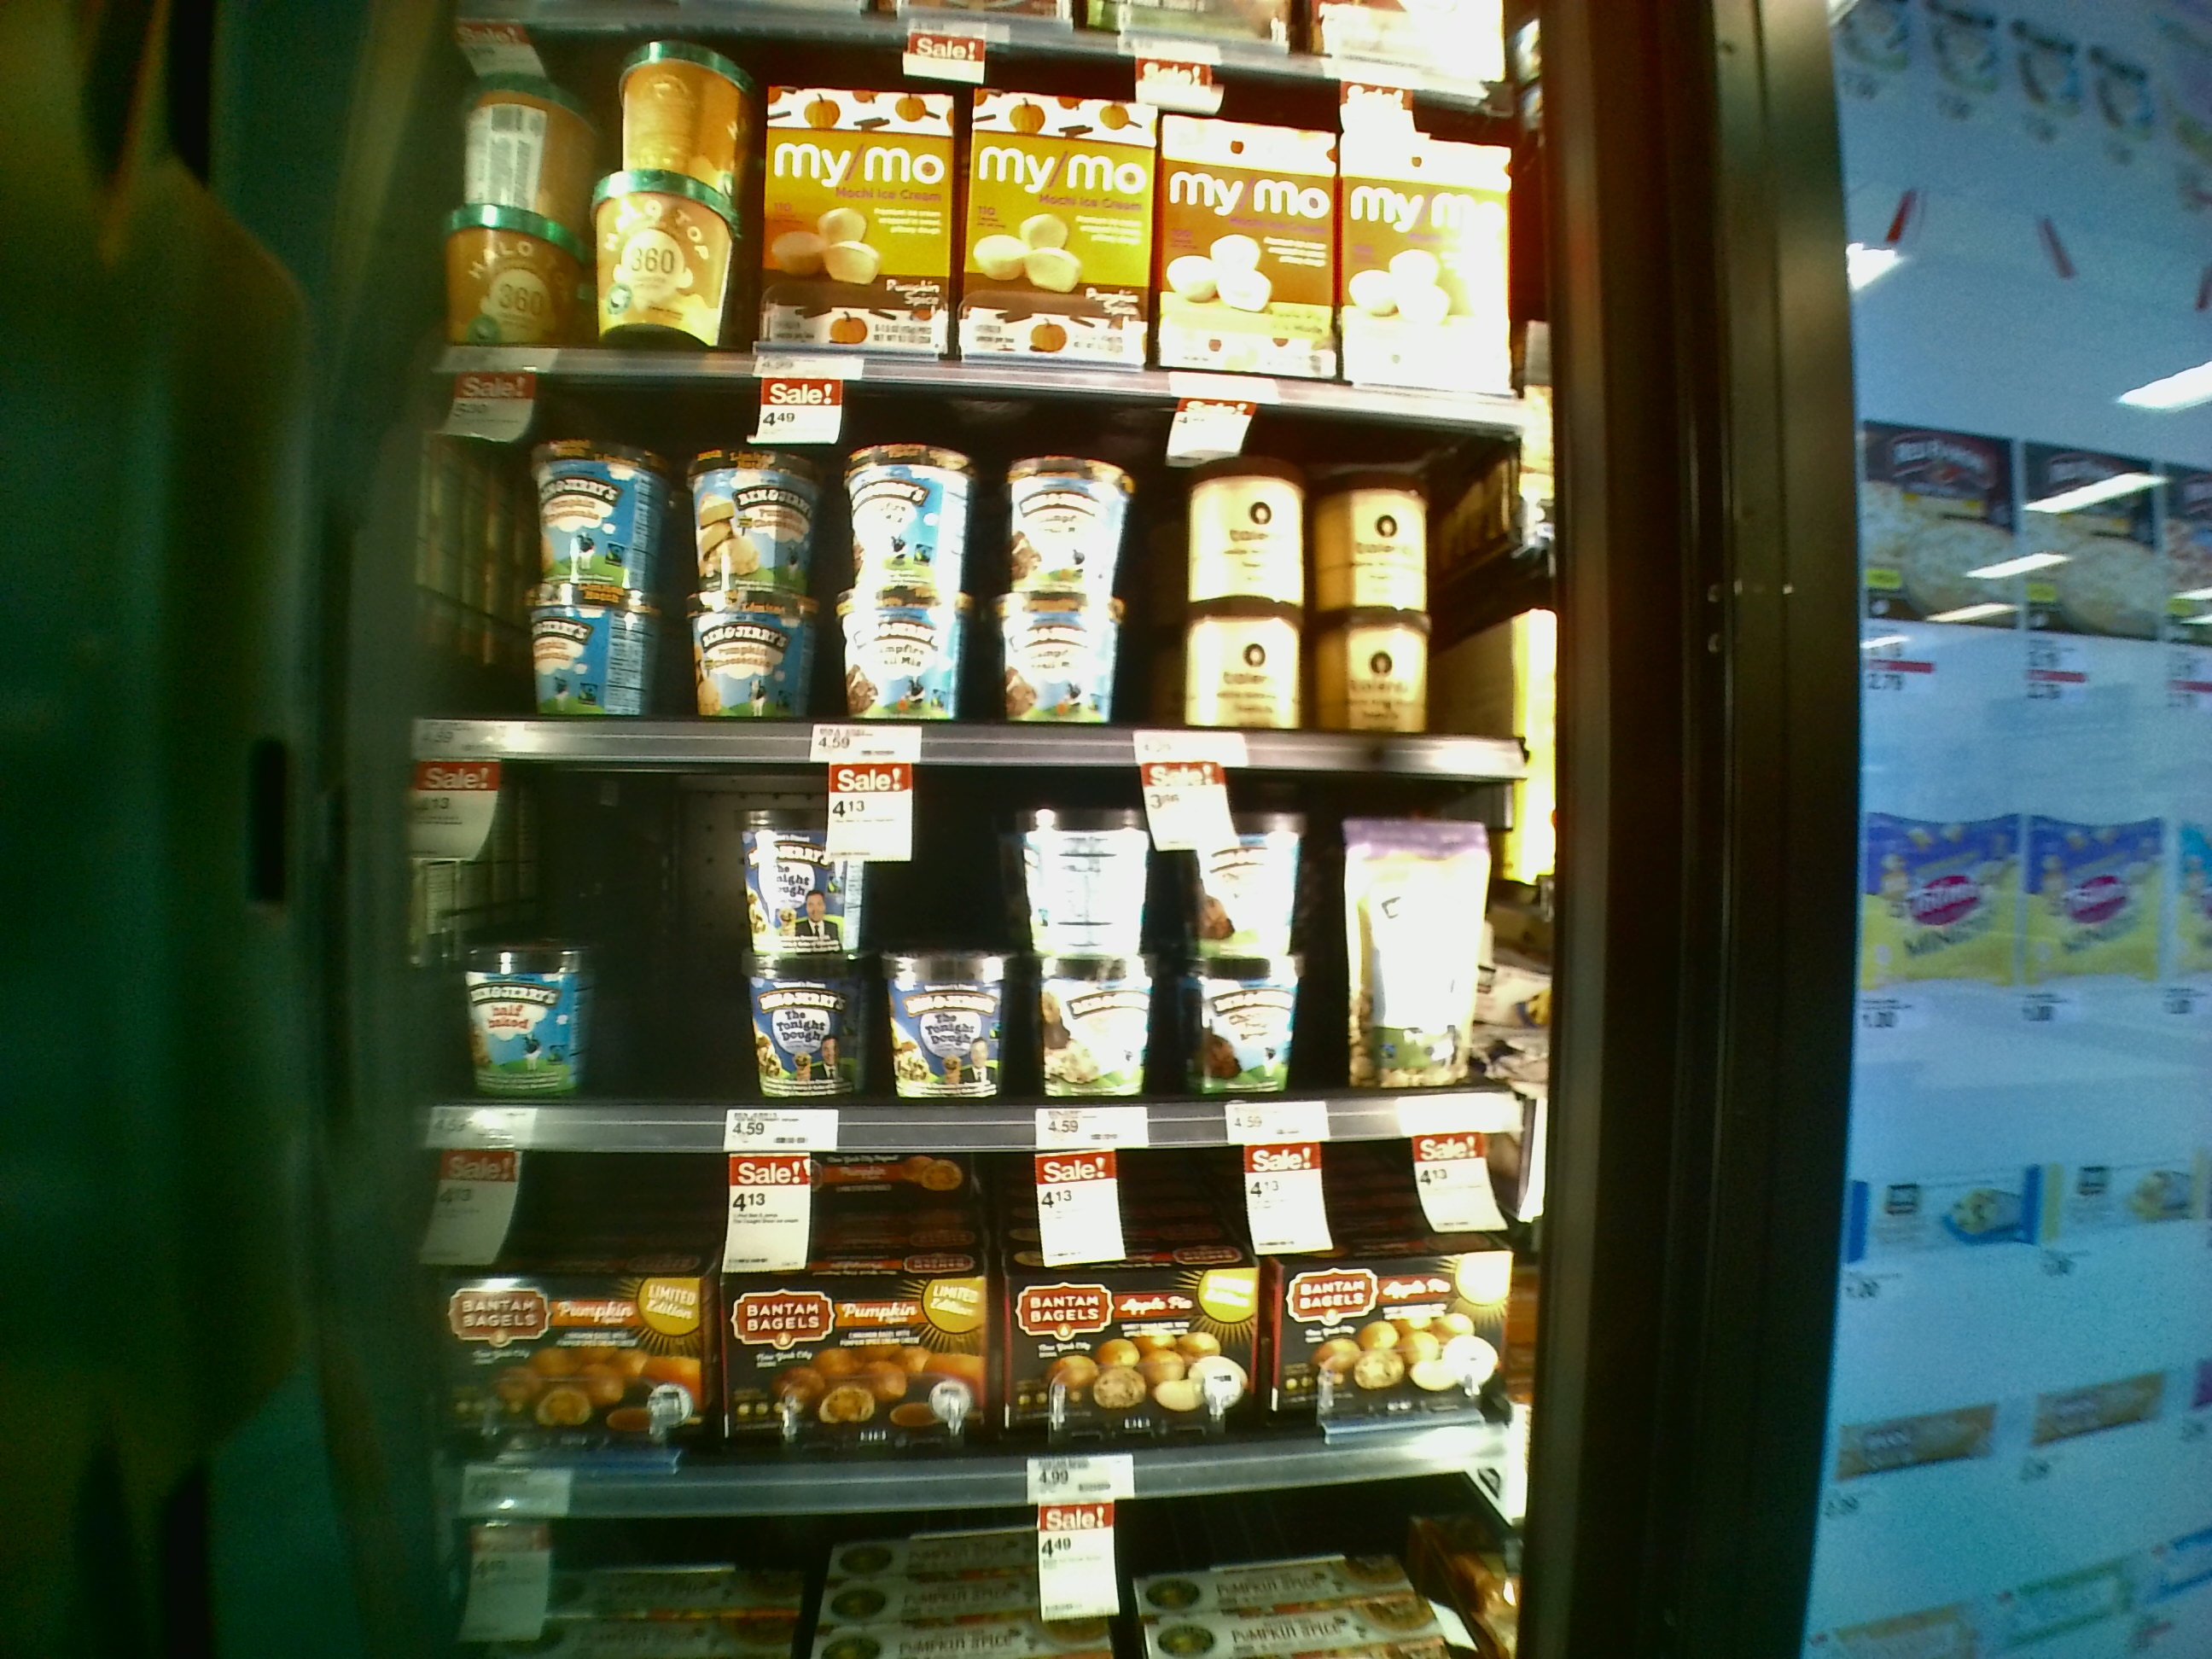shelf: (397, 375, 1554, 786), (381, 758, 1554, 1145), (369, 1143, 1529, 1502)
